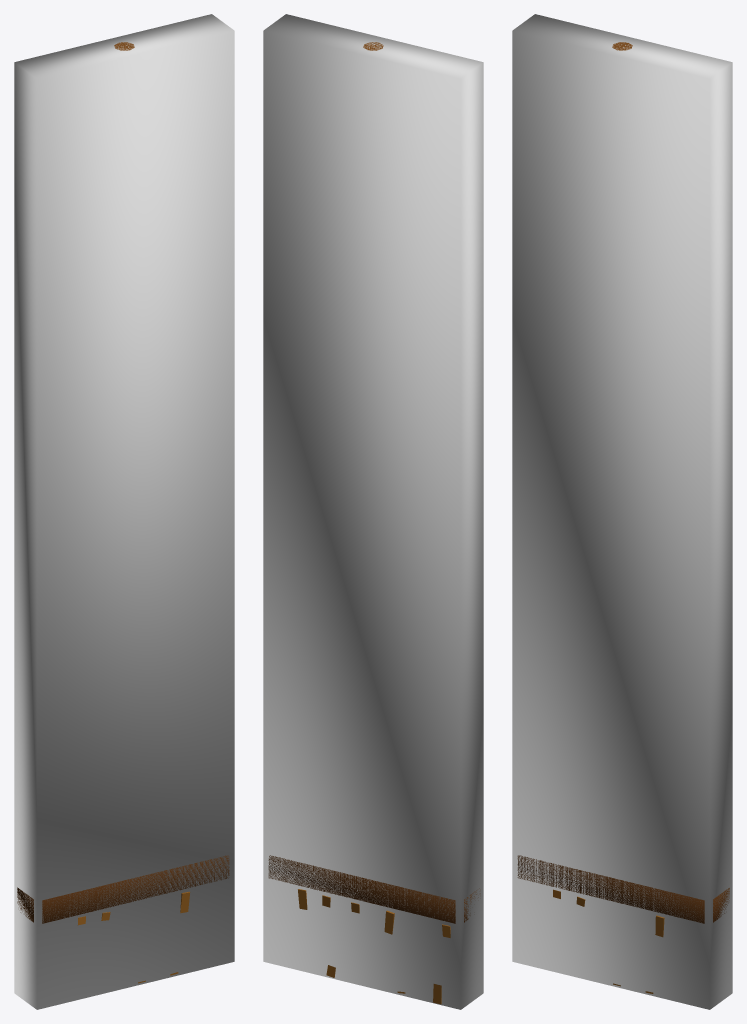
File: escoba.glb
The picture shows the model from 3 angles, left to right: view 1: azimuth 30°, elevation 25°; view 2: azimuth 150°, elevation 25°; view 3: azimuth 330°, elevation 25°; orthographic projection.
Parts seen in each view (by area): view 1: escoba-colcaja, escoba; view 2: escoba-colcaja, escoba; view 3: escoba-colcaja, escoba.
Boxes of the visible parts, x1=… form: escoba-colcaja: x1=14, y1=14, x2=234, y2=1009; escoba: x1=17, y1=42, x2=229, y2=983; escoba-colcaja: x1=263, y1=14, x2=483, y2=1009; escoba: x1=268, y1=42, x2=480, y2=1004; escoba-colcaja: x1=512, y1=14, x2=732, y2=1009; escoba: x1=517, y1=42, x2=729, y2=993.
Size of the model in its own units: 0.3 by 1.35 by 0.0649.
